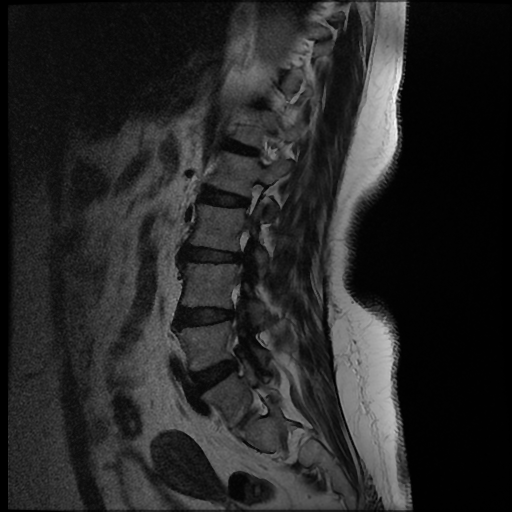LFS0: (235, 173, 270, 220)
